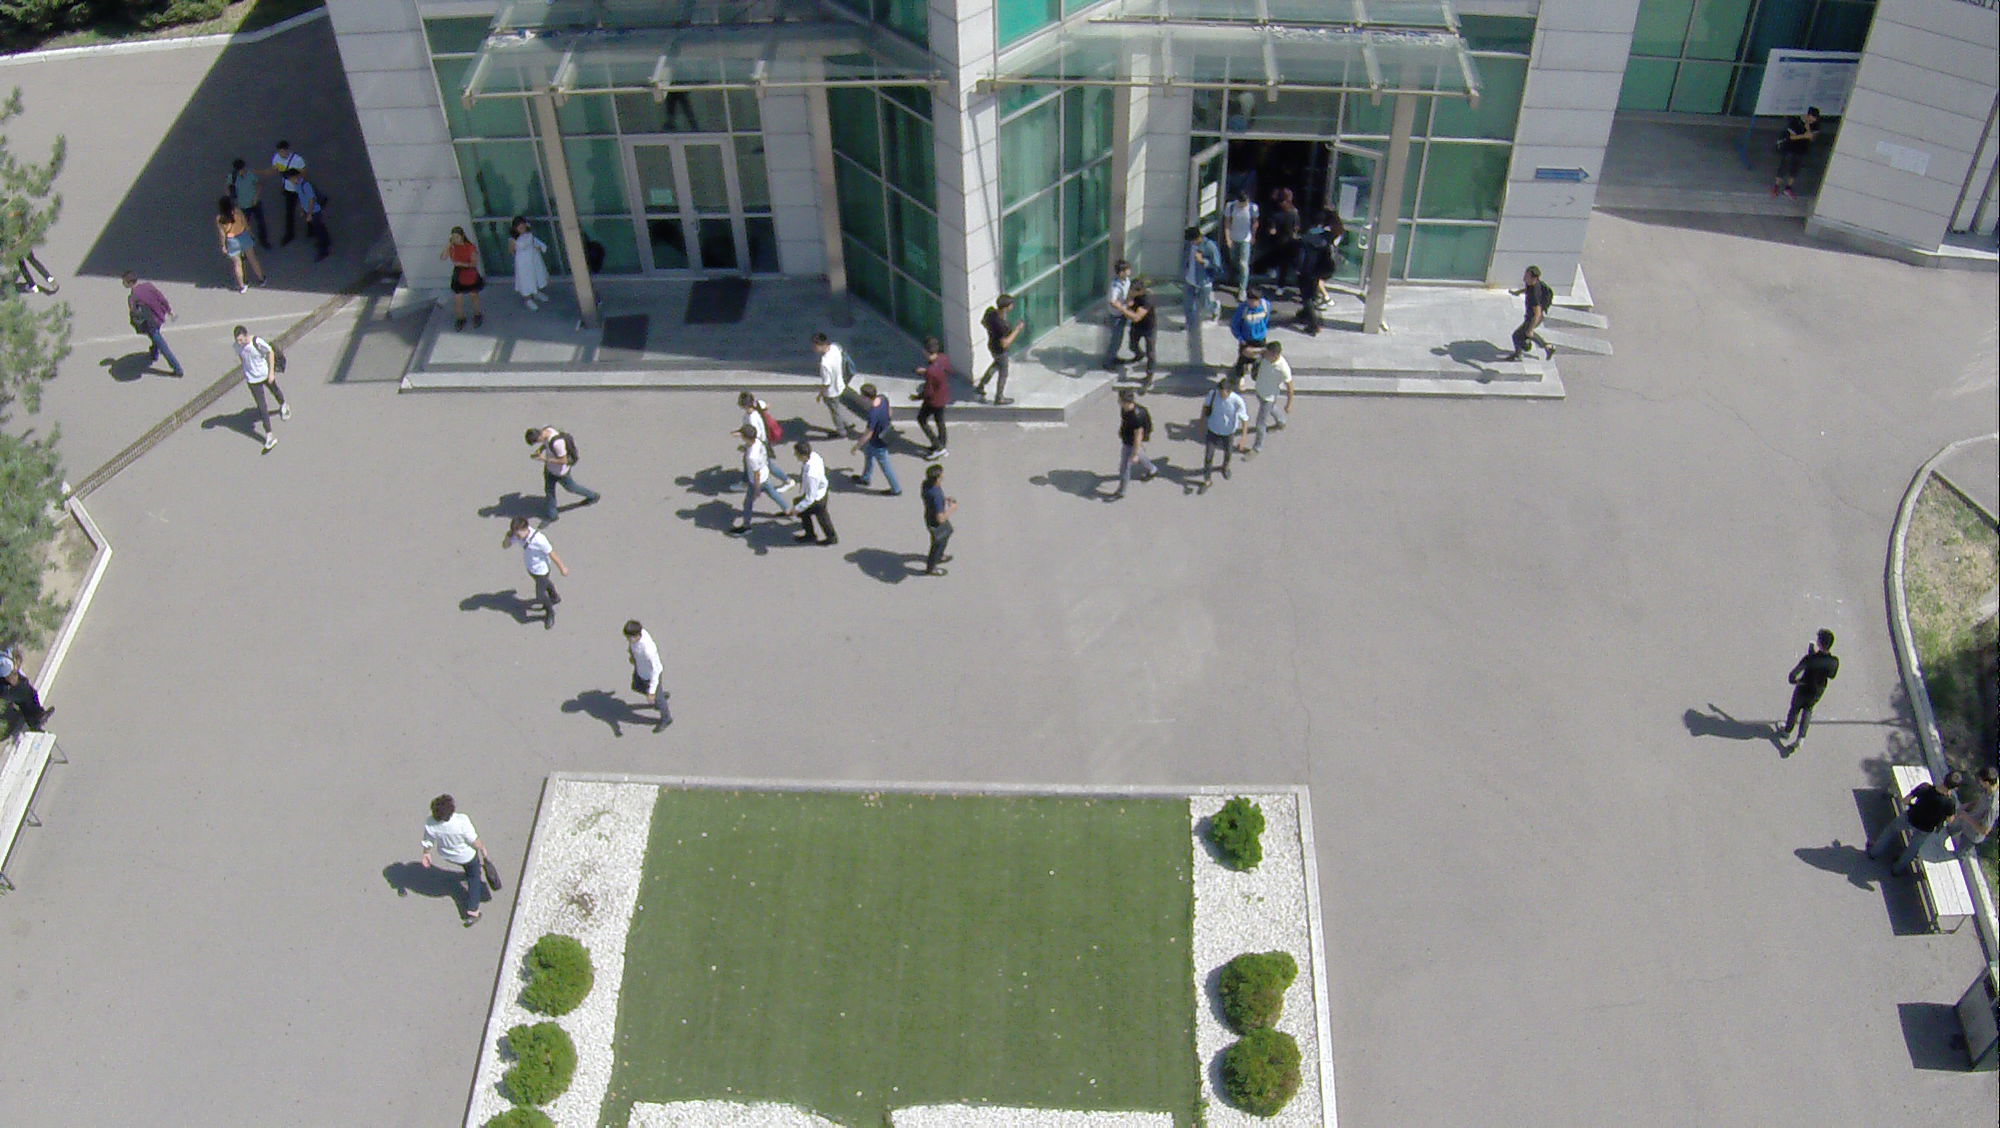person: (1861, 769, 1966, 874), (1770, 626, 1843, 756), (111, 267, 186, 382), (725, 424, 793, 541), (232, 324, 293, 454), (528, 418, 602, 522), (504, 516, 569, 629), (1099, 385, 1160, 503), (967, 293, 1023, 410), (907, 332, 955, 463), (203, 197, 268, 293), (1766, 103, 1825, 207), (1196, 382, 1249, 496), (438, 224, 491, 333), (1505, 263, 1559, 364), (853, 381, 899, 499), (1251, 338, 1296, 457), (1176, 230, 1226, 328), (918, 464, 960, 580), (507, 216, 557, 314), (793, 437, 835, 549), (1095, 255, 1133, 378), (810, 330, 853, 437), (1225, 191, 1259, 295), (1230, 288, 1269, 349), (736, 389, 778, 428)
